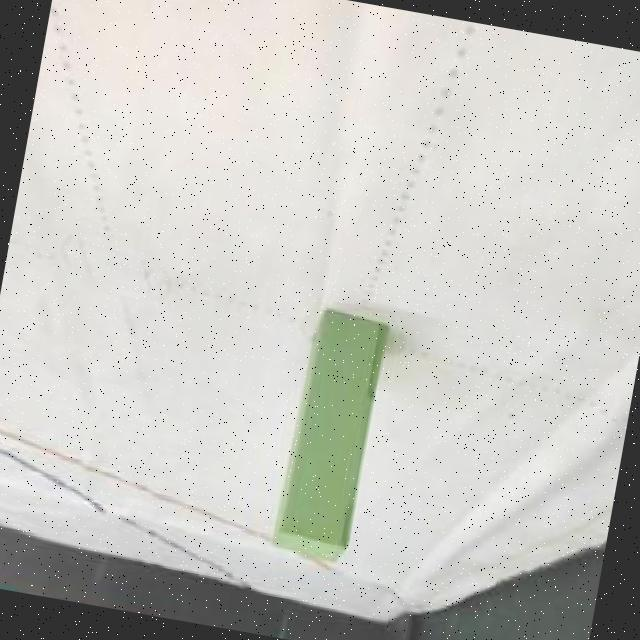greenbox: (266, 304, 394, 570)
